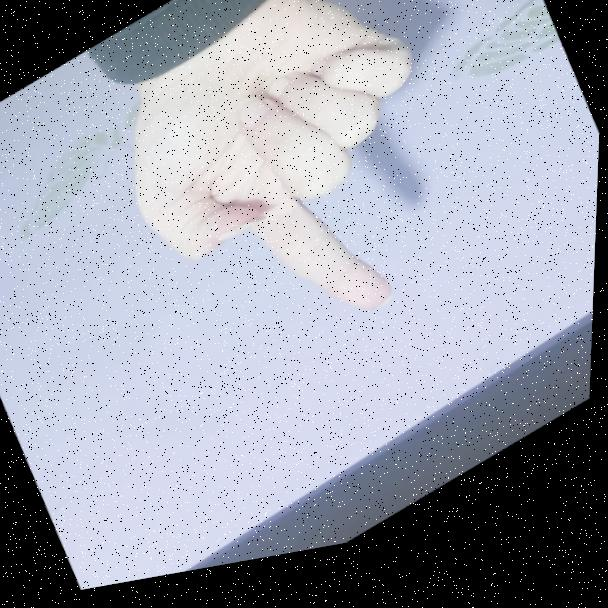one: (84, 0, 497, 429)
